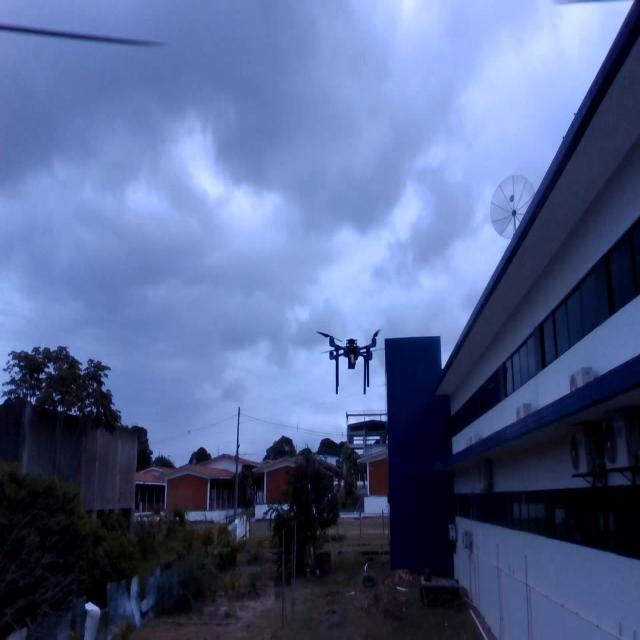-uav-: (314, 317, 393, 407)
